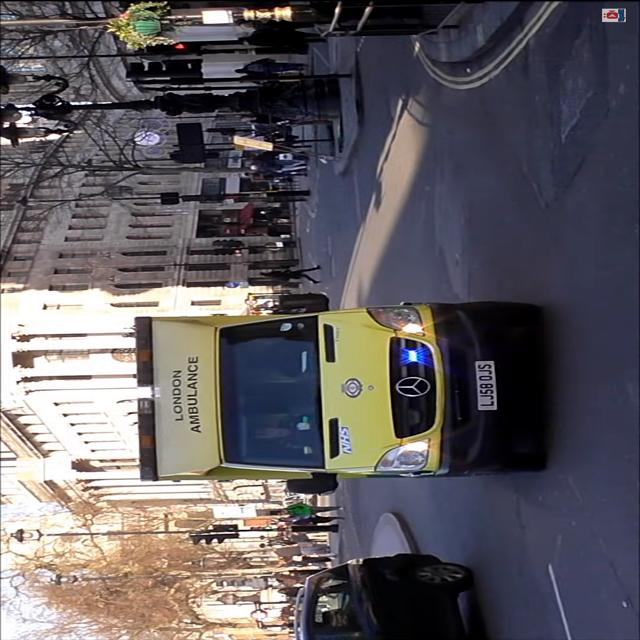emergency-vehicles: (120, 283, 564, 505)
